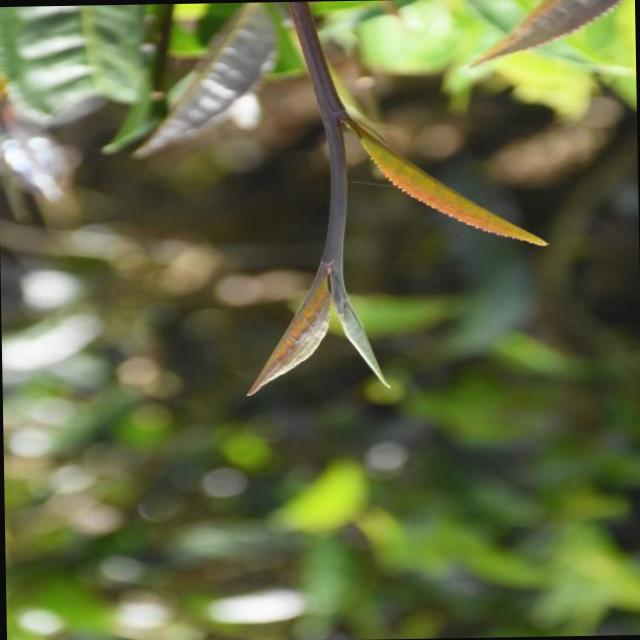Stem: (304, 58, 341, 114)
